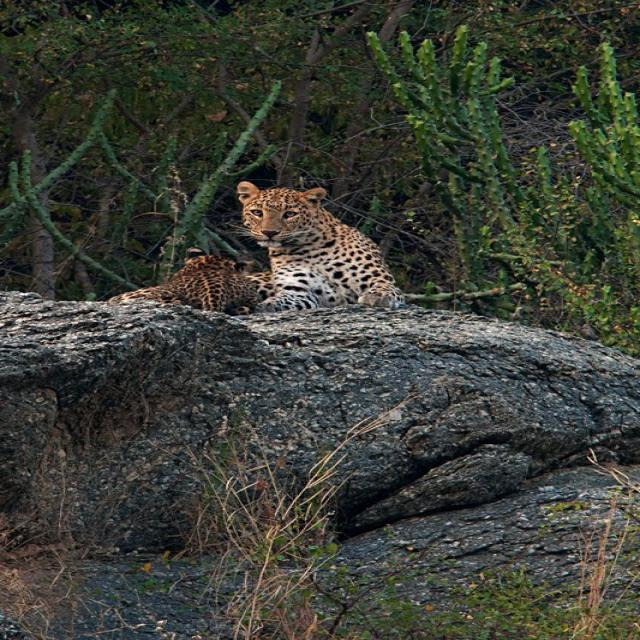Leopard: (227, 178, 411, 308), (104, 244, 271, 307)
